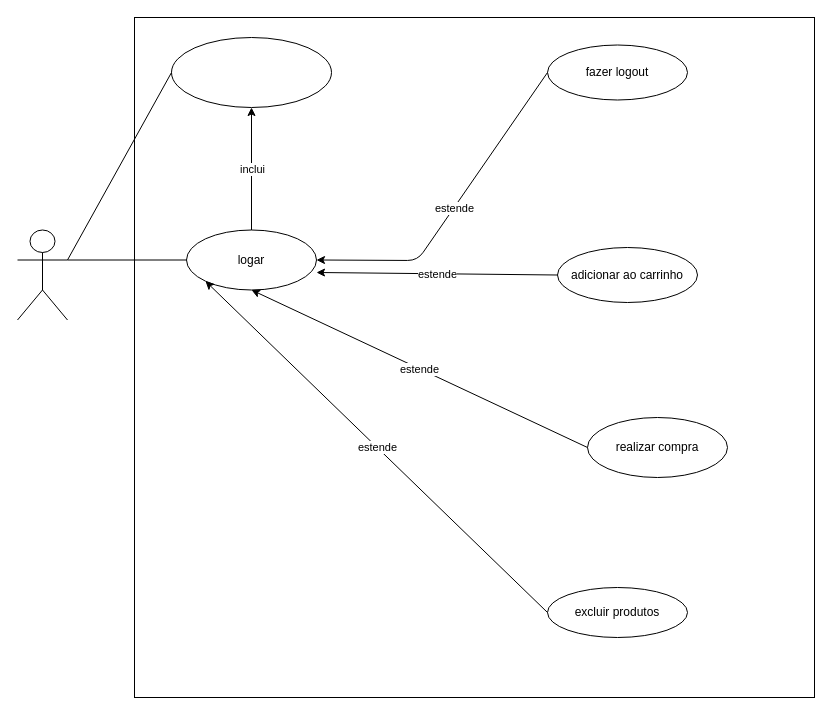
Image size: 832x715. Some labels were removed from this diagram. Here are the shapes that lost their labels. From the top down, the box of each, then its label:
(170, 36, 332, 108): realizar cadastro
(16, 229, 68, 320): Cliente
